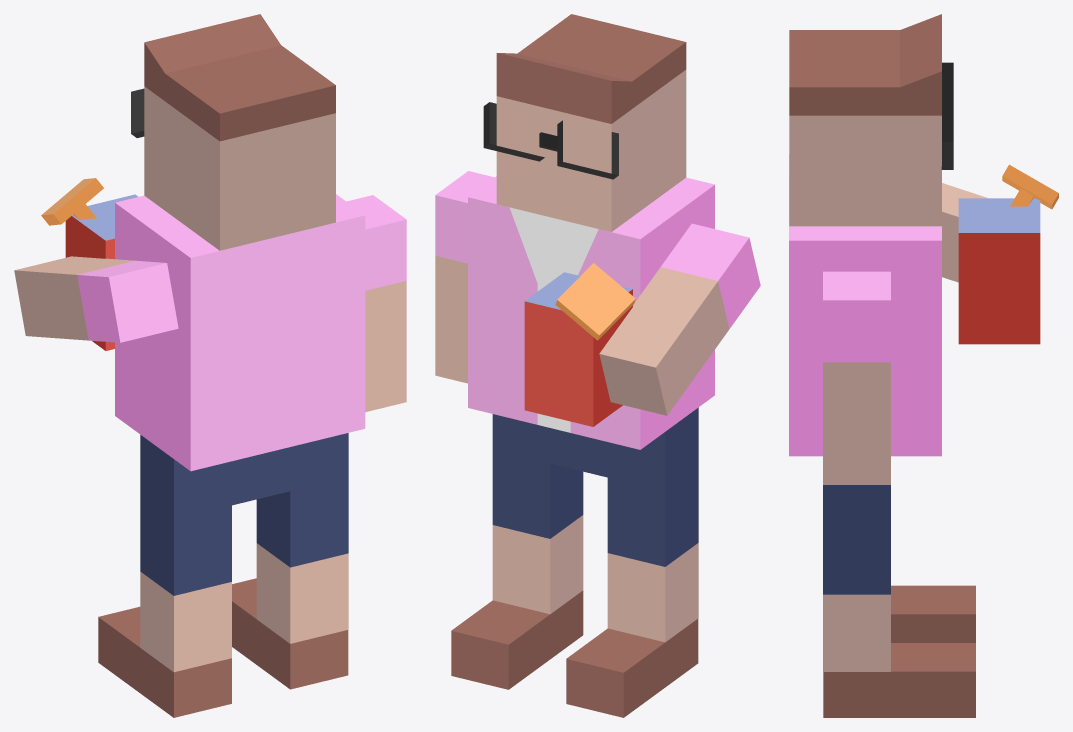
File: office-vacation.glb
3 views of the same model, side by side, from view 1: azimuth 30°, elevation 25°; view 2: azimuth 150°, elevation 25°; view 3: azimuth 270°, elevation 25° (orthographic). The views are drawn at different scales.
Visible parts, largest first — view 1: UNIT.104, UNIT.103, UNIT.102, UNIT.101, UNIT.100, UNIT.098, Cube.025, Cube.026, UNIT.105; view 2: UNIT.104, UNIT.103, UNIT.102, UNIT.101, Cube.025, UNIT.100, Cube.026, UNIT.105, UNIT.098; view 3: UNIT.104, UNIT.102, UNIT.100, Cube.025, UNIT.103, UNIT.101, Cube.026, UNIT.105.
Part boxes in pixels (x1,y1,x2,y2): UNIT.104: [115, 14, 365, 471]; UNIT.103: [98, 435, 231, 717]; UNIT.102: [232, 433, 348, 689]; UNIT.101: [14, 256, 178, 342]; UNIT.100: [346, 195, 406, 412]; UNIT.098: [232, 447, 290, 505]; Cube.025: [65, 194, 138, 350]; Cube.026: [41, 178, 103, 225]; UNIT.105: [131, 88, 144, 137]; UNIT.104: [468, 14, 714, 449]; UNIT.103: [566, 407, 698, 717]; UNIT.102: [451, 414, 583, 689]; UNIT.101: [599, 223, 760, 415]; Cube.025: [524, 272, 632, 426]; UNIT.100: [435, 171, 494, 383]; Cube.026: [555, 263, 635, 340]; UNIT.105: [483, 102, 618, 179]; UNIT.098: [550, 428, 607, 477]; UNIT.104: [789, 14, 941, 456]; UNIT.102: [823, 485, 975, 717]; UNIT.100: [823, 271, 890, 484]; Cube.025: [958, 198, 1040, 344]; UNIT.103: [891, 585, 975, 642]; UNIT.101: [942, 183, 987, 282]; Cube.026: [1002, 164, 1058, 209]; UNIT.105: [941, 62, 953, 169].
Size of the model in its own units: 0.7001 by 1.44 by 0.5557.
3 materials, 3 textured.
